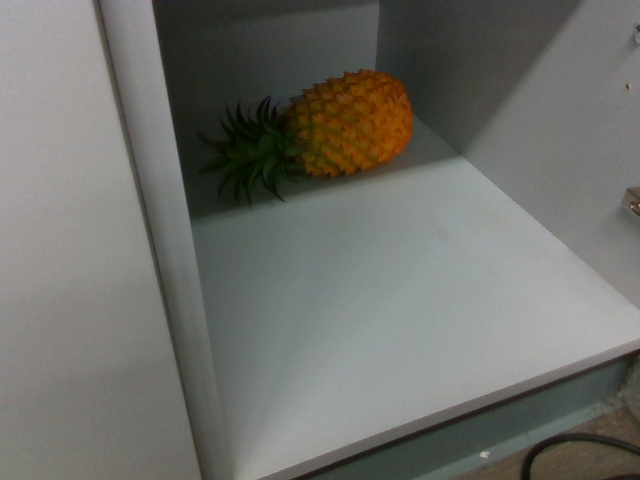pineapple: (231, 72, 422, 191)
